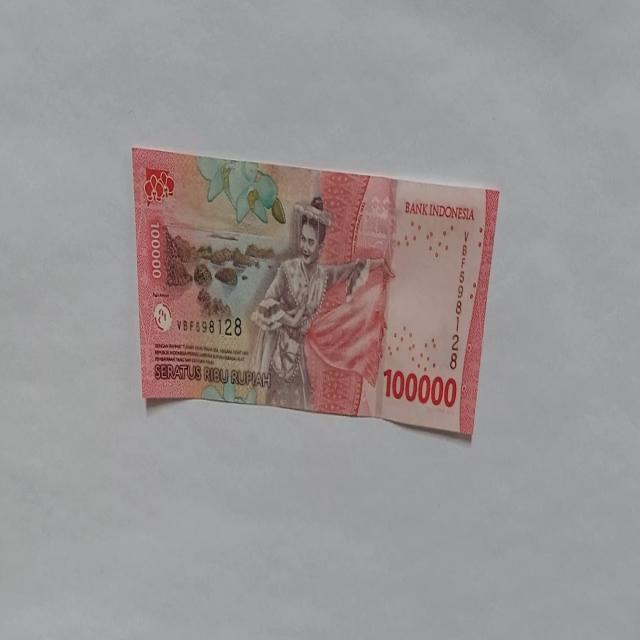seratus ribu rupiah: (131, 147, 500, 441), (246, 195, 386, 414)
